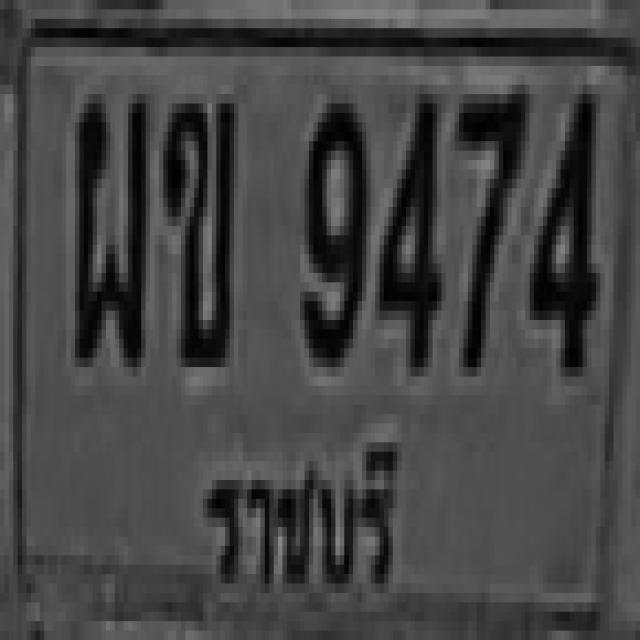11KhorKhai: (159, 94, 229, 358)
37PhorPhueng: (70, 85, 146, 358)
4: (526, 85, 592, 367), (375, 85, 437, 367)
7: (455, 80, 525, 362)
9: (300, 94, 362, 358)
Ratchaburi: (195, 422, 407, 613)
